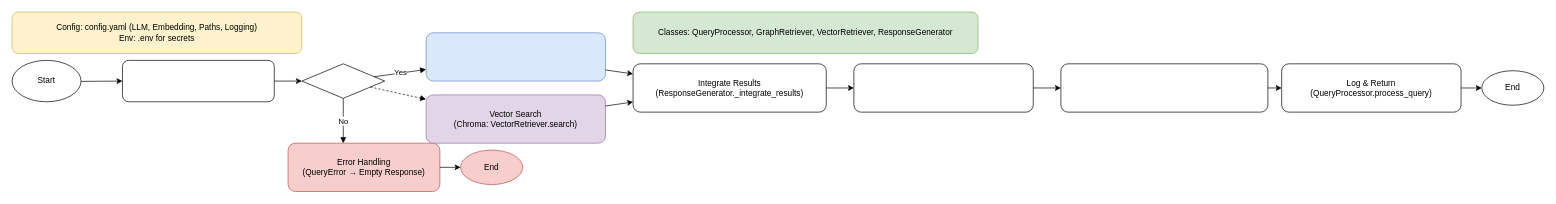
Image size: 1556x204. Some labels were removed from this diagram. Each missing label, with the centre of its shape:
"Generate Response (ResponseGenerator.generate_response)" goes at [1164,87].
"Graph Search (Neo4j: GraphRetriever.search)" goes at [515,56].
"Is Valid?" goes at [343,80].
"Rank Results (ResponseGenerator._rank_results)" goes at [943,87].
"Validate & Normalize Input" goes at [198,81].
